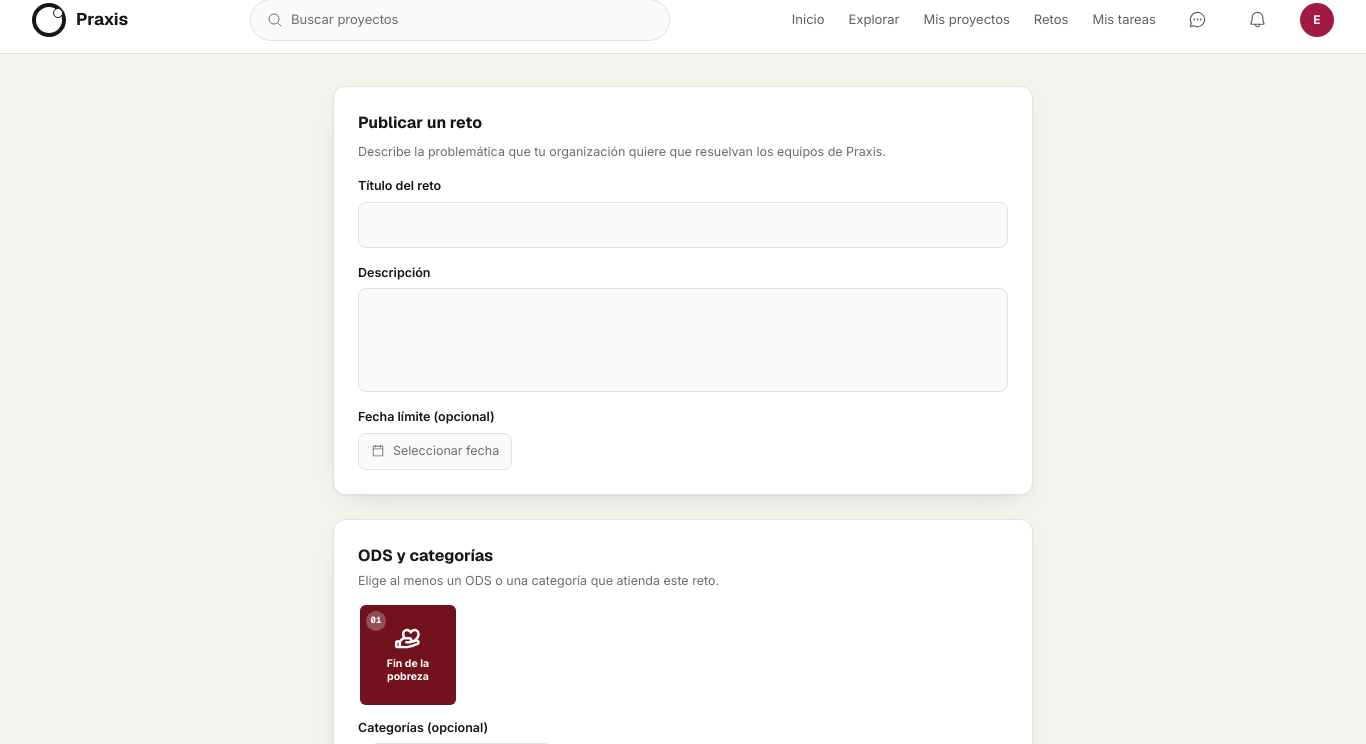
Test: CrearReto — requires at least one ODS or category › blocks submission and shows the combined error when neither is selected
Step 1. Type "Reto de agua" into the field labelled "Título del reto" → (683, 225), box [358,202,1008,248]
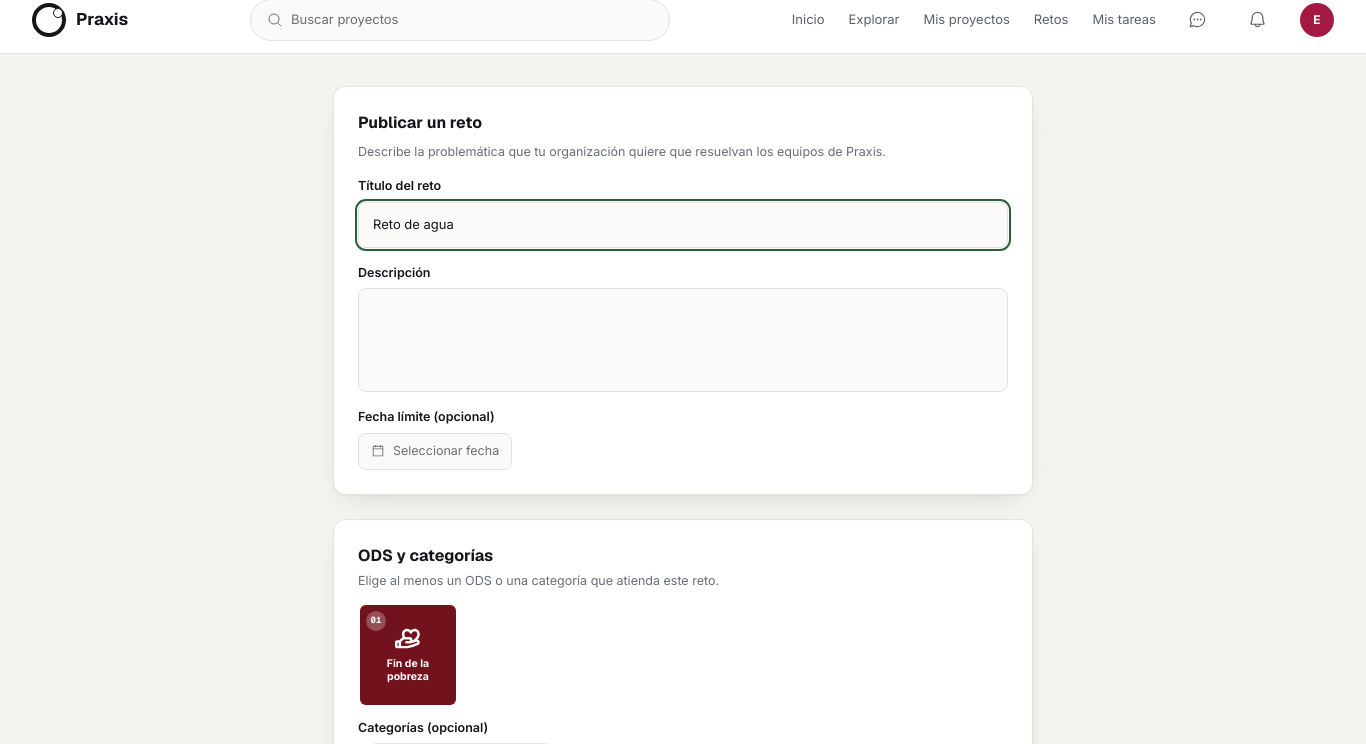
Step 2. Type "Descripción del reto" into the text box labelled "Descripción" → (683, 340), box [358,288,1008,392]
(page scrolled)
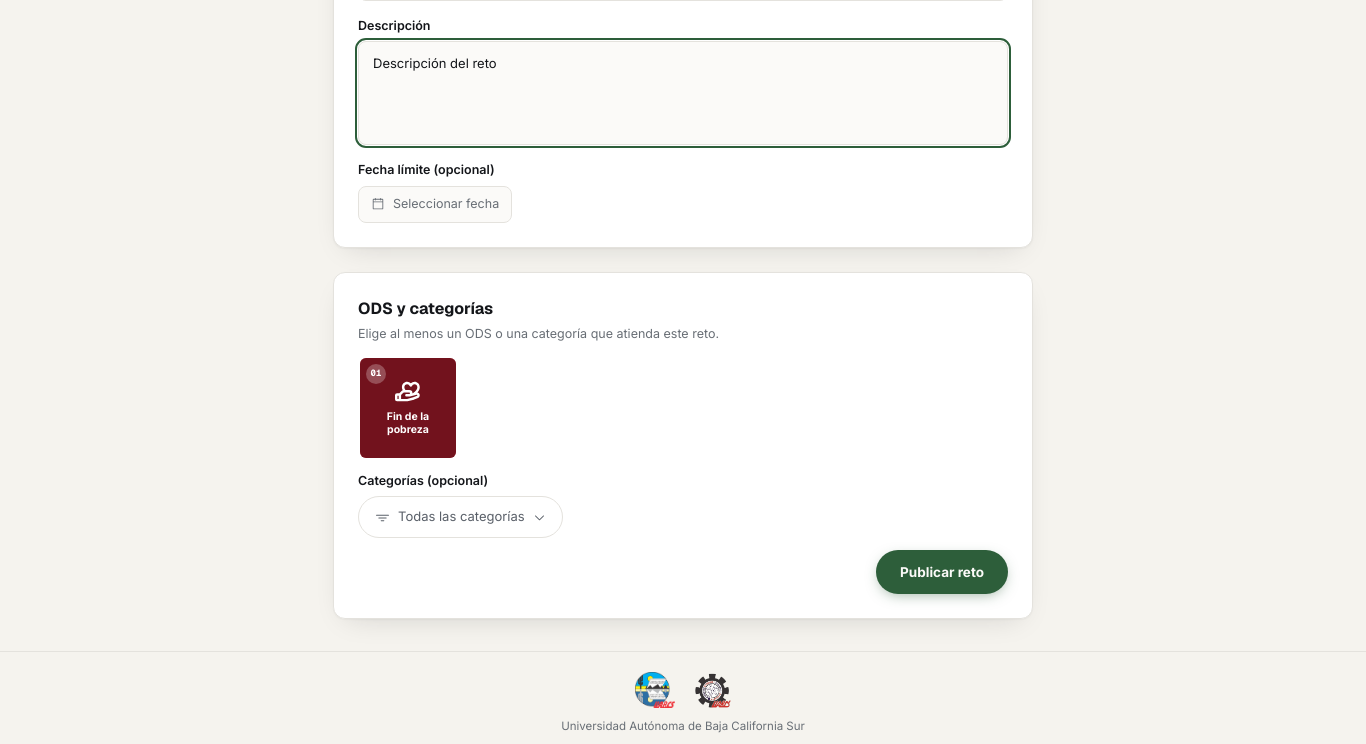
Step 3. Click the button "Publicar reto" → (942, 572), box [876,550,1008,594]
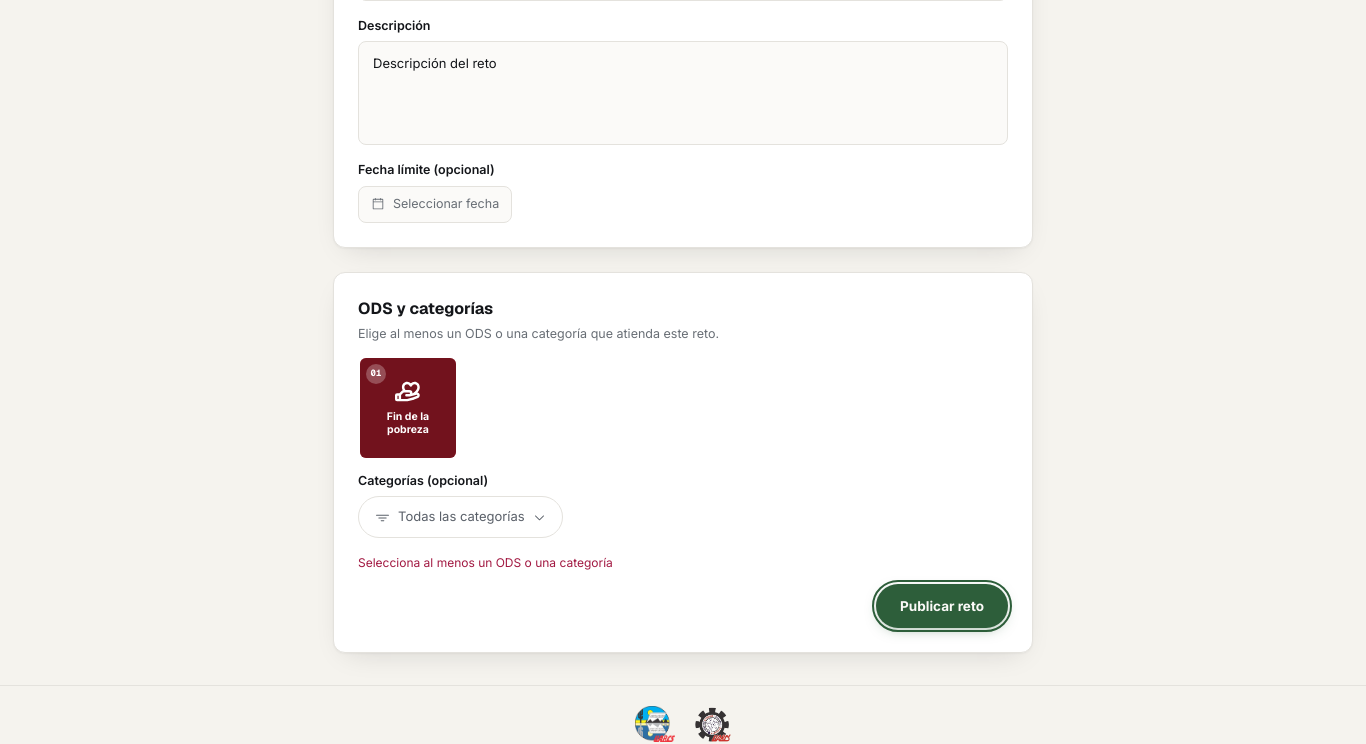
Check: the text "Selecciona al menos un ODS o una categoría" is shown, box [358,555,613,570]
